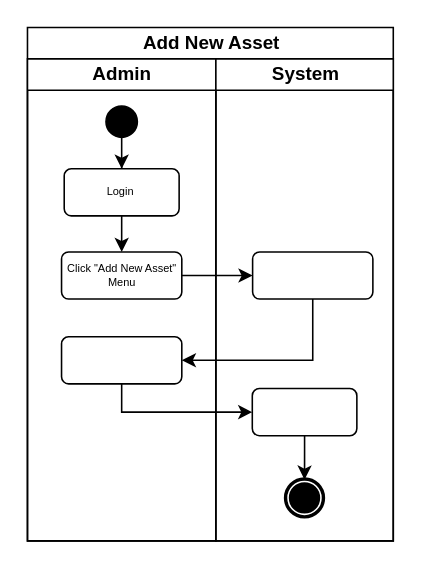
Image size: 421x568. Some labels were removed from this diagram. Each missing label, with the centre of its shape:
Display Add New Asset Page: the point at 312,274
Fill Form Registration for a New Asset: the point at 121,359
Save Item in Database: the point at 304,411
